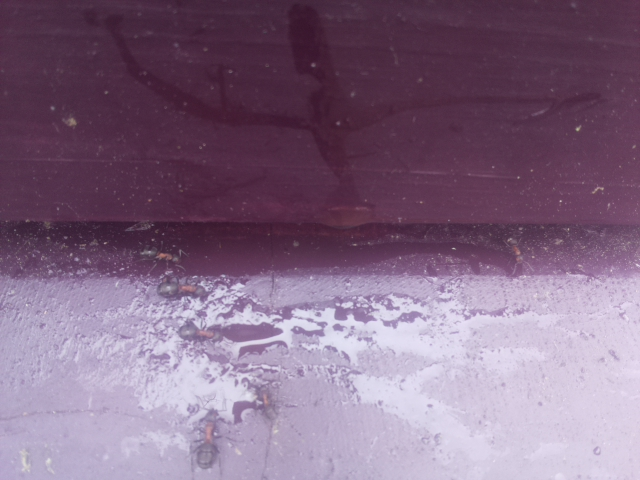ant: (189, 418, 225, 472), (179, 316, 226, 346), (154, 276, 206, 300), (130, 246, 180, 262)
